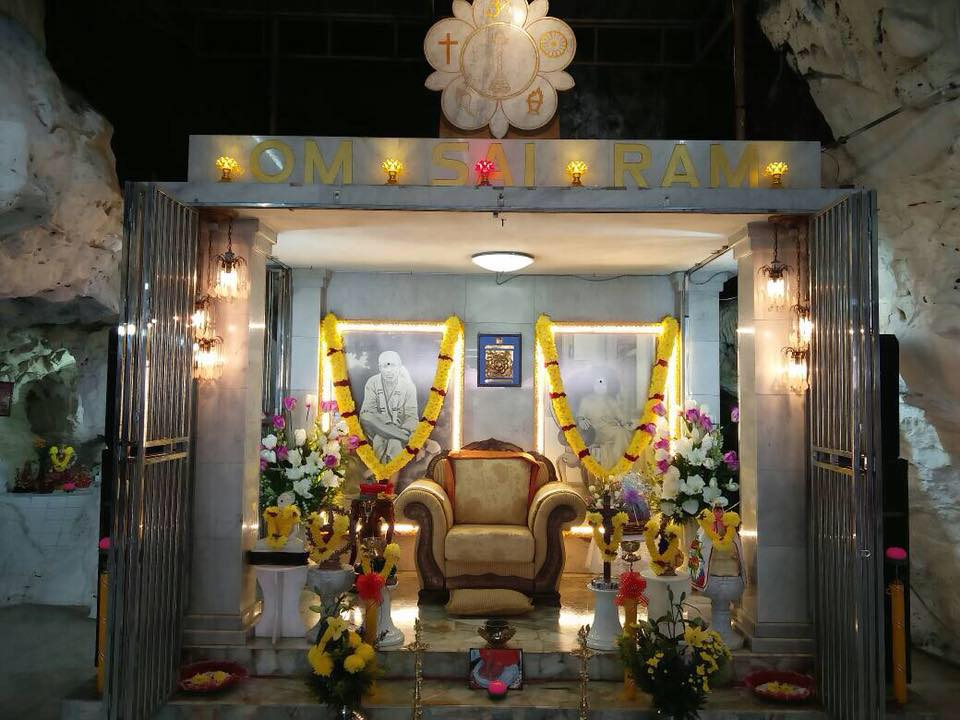Buddhist Temple: (138, 85, 893, 677)
